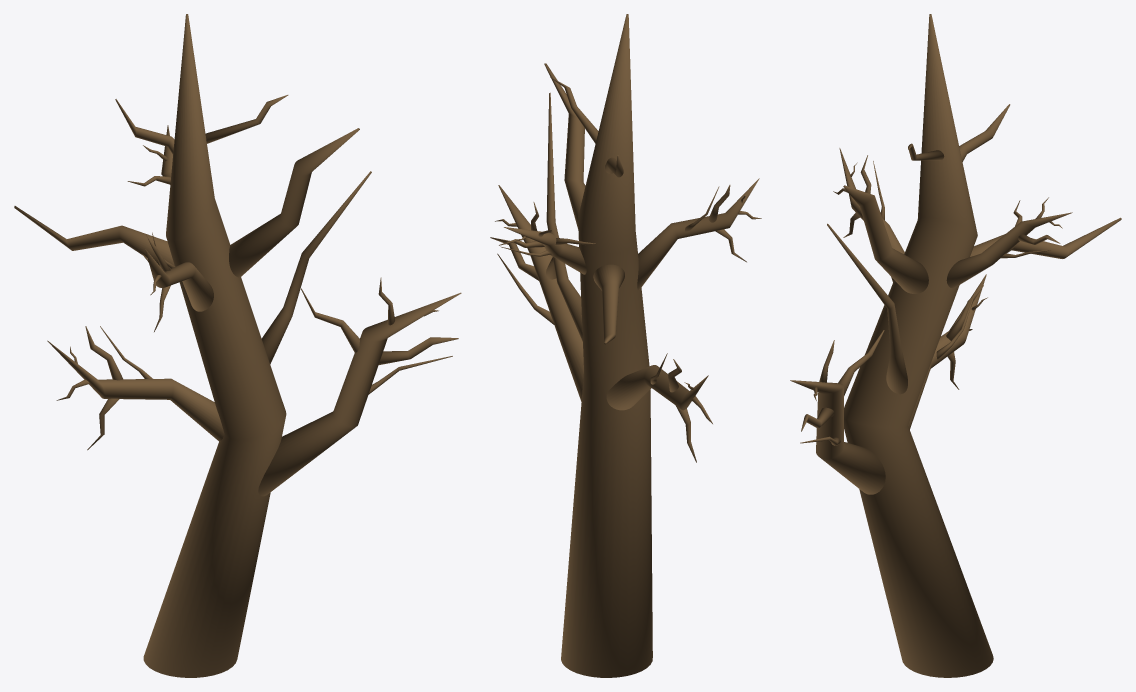
Rendered from Deadtree.fbx.
3 views of the same model, side by side, from view 1: azimuth 30°, elevation 25°; view 2: azimuth 150°, elevation 25°; view 3: azimuth 270°, elevation 25° (orthographic). The views are drawn at different scales.
Parts seen in each view (by area): view 1: Cylinder; view 2: Cylinder; view 3: Cylinder.
Boxes of the visible parts, <box> form: Cylinder: <box>14,14,461,677</box>; Cylinder: <box>490,14,761,677</box>; Cylinder: <box>790,14,1121,677</box>.
Bounding box in the file's own units: 135 × 266 × 125.
